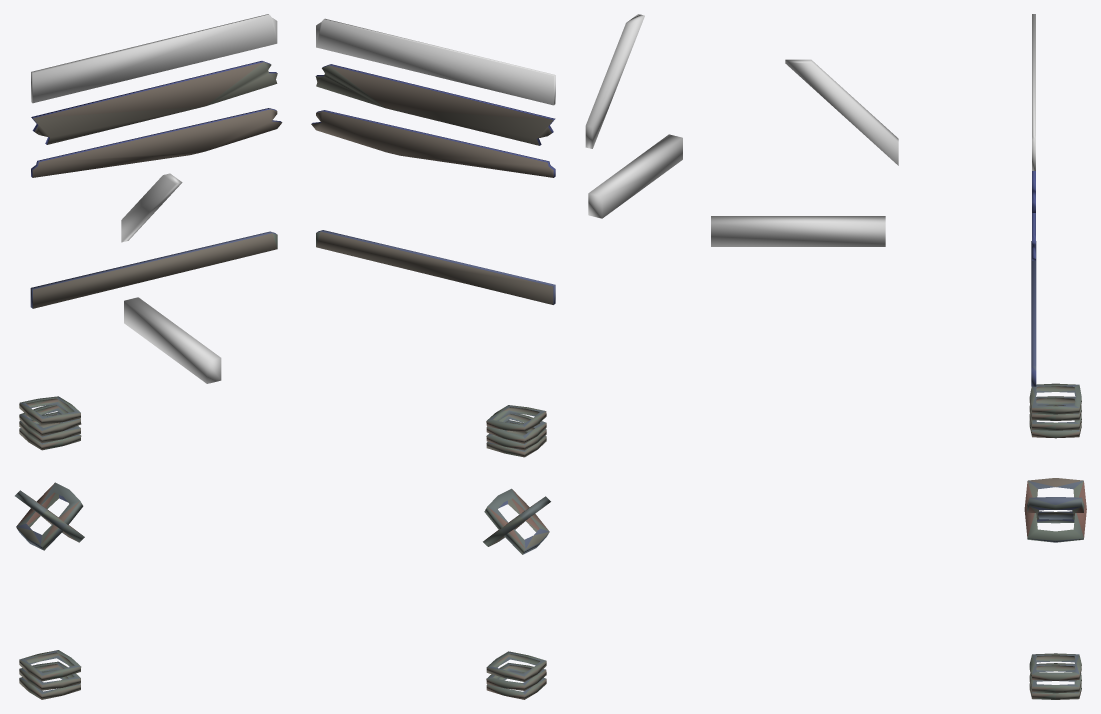
File: wood_set_01.fbx
3 views of the same model, side by side, from view 1: azimuth 30°, elevation 25°; view 2: azimuth 150°, elevation 25°; view 3: azimuth 270°, elevation 25° (orthographic). The views are drawn at different scales.
Parts seen in each view (by area): view 1: wood_board_small_01, wood_board_small_02, wood_board_small_03, wood_board_small_05, wood_board_small_04, rope_connector_01, rope_connector_02, rope_connector_03, wood_connector_45; view 2: wood_board_small_01, wood_board_small_02, wood_board_small_03, wood_board_small_05, wood_board_small_04, rope_connector_01, rope_connector_02, rope_connector_03, wood_connector_45; view 3: wood_board_small_04, rope_connector_02, wood_connector_45, rope_connector_01, rope_connector_03, wood_board_small_05, wood_board_small_01.
Part boxes in pixels (left/top/right/bottom): wood_board_small_01: left=31, top=14, right=277, bottom=103; wood_board_small_02: left=31, top=61, right=277, bottom=144; wood_board_small_03: left=31, top=108, right=282, bottom=177; wood_board_small_05: left=30, top=231, right=277, bottom=308; wood_board_small_04: left=124, top=297, right=221, bottom=383; rope_connector_01: left=19, top=396, right=81, bottom=450; rope_connector_02: left=15, top=482, right=84, bottom=550; rope_connector_03: left=19, top=650, right=81, bottom=699; wood_connector_45: left=121, top=173, right=182, bottom=242; wood_board_small_01: left=316, top=18, right=555, bottom=105; wood_board_small_02: left=315, top=64, right=555, bottom=145; wood_board_small_03: left=311, top=110, right=555, bottom=177; wood_board_small_05: left=316, top=230, right=555, bottom=304; wood_board_small_04: left=588, top=134, right=682, bottom=218; rope_connector_01: left=486, top=405, right=546, bottom=457; rope_connector_02: left=483, top=488, right=550, bottom=554; rope_connector_03: left=486, top=651, right=546, bottom=699; wood_connector_45: left=585, top=14, right=644, bottom=148; wood_board_small_04: left=711, top=216, right=885, bottom=246; rope_connector_02: left=1024, top=478, right=1086, bottom=542; wood_connector_45: left=785, top=59, right=898, bottom=165; rope_connector_01: left=1029, top=383, right=1081, bottom=438; rope_connector_03: left=1029, top=653, right=1081, bottom=699; wood_board_small_05: left=1031, top=241, right=1036, bottom=386; wood_board_small_01: left=1032, top=14, right=1035, bottom=170.
Size of the model in its own units: 347 by 836 by 431.
